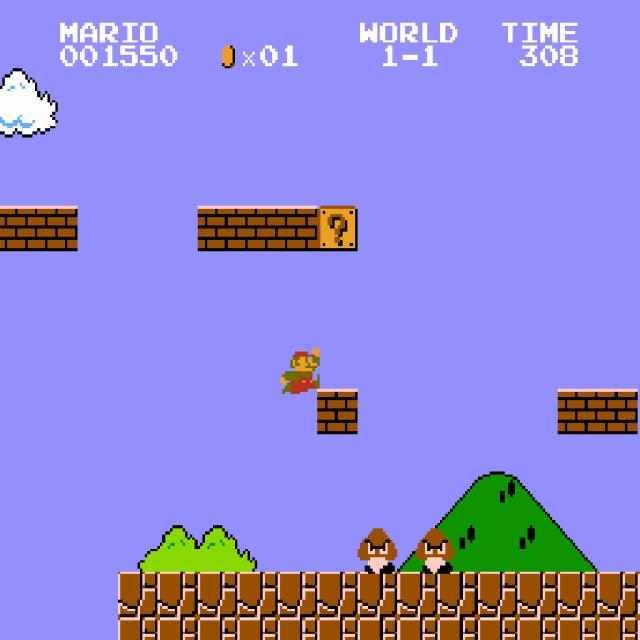brick_block: (37, 206, 78, 251), (197, 206, 238, 251), (237, 206, 278, 251), (277, 206, 318, 251), (317, 389, 358, 434), (557, 389, 598, 434), (597, 389, 638, 434), (0, 206, 37, 251)
goomba: (355, 526, 397, 574), (413, 526, 455, 574)
little_mario: (277, 346, 320, 394)
mystery_block: (317, 206, 358, 251)
undestructible_block: (117, 572, 158, 617), (157, 572, 198, 617), (197, 572, 238, 617), (237, 572, 278, 617), (277, 572, 318, 617), (317, 572, 358, 617), (357, 572, 398, 617), (397, 572, 438, 617), (437, 572, 478, 617), (477, 572, 518, 617), (517, 572, 558, 617), (557, 572, 598, 617), (597, 572, 638, 617), (117, 617, 158, 640), (157, 617, 198, 640), (197, 617, 238, 640), (237, 617, 278, 640), (277, 617, 318, 640), (317, 617, 358, 640), (357, 617, 398, 640), (397, 617, 438, 640), (437, 617, 478, 640), (477, 617, 518, 640), (517, 617, 558, 640), (557, 617, 598, 640), (597, 617, 638, 640), (637, 571, 640, 617), (637, 617, 640, 639)
